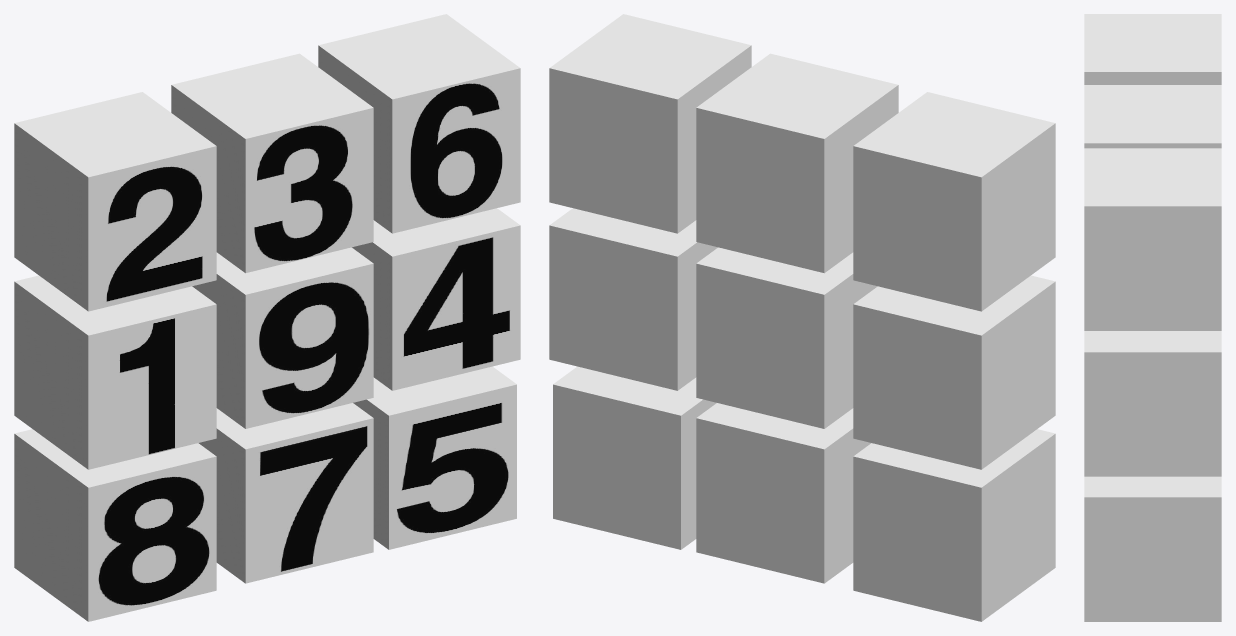
File: botoes.fbx
3 renders of one model, left to right at view 1: azimuth 30°, elevation 25°; view 2: azimuth 150°, elevation 25°; view 3: azimuth 270°, elevation 25°, orthographic. The views are drawn at different scales.
Parts seen in each view (by area): view 1: botao2, botao3, botao1, botao8, botao6, botao9, botao7, botao4, botao5; view 2: botao2, botao3, botao1, botao8, botao6, botao9, botao7, botao4, botao5; view 3: botao6, botao4, botao5, botao2, botao3.
Boxes of the visible parts, bbox=[...] form: botao2: bbox=[14, 92, 216, 311]; botao3: bbox=[171, 53, 373, 273]; botao1: bbox=[14, 275, 216, 469]; botao8: bbox=[14, 429, 216, 621]; botao6: bbox=[318, 14, 520, 233]; botao9: bbox=[192, 247, 373, 428]; botao7: bbox=[198, 403, 373, 583]; botao4: bbox=[352, 208, 520, 390]; botao5: bbox=[353, 366, 516, 549]; botao2: bbox=[853, 92, 1055, 311]; botao3: bbox=[696, 53, 898, 273]; botao1: bbox=[853, 275, 1055, 469]; botao8: bbox=[853, 429, 1055, 621]; botao6: bbox=[549, 14, 751, 233]; botao9: bbox=[696, 247, 877, 428]; botao7: bbox=[696, 403, 871, 583]; botao4: bbox=[549, 208, 717, 390]; botao5: bbox=[553, 366, 716, 549]; botao6: bbox=[1084, 148, 1221, 330]; botao4: bbox=[1084, 331, 1221, 476]; botao5: bbox=[1084, 476, 1221, 621]; botao2: bbox=[1084, 14, 1221, 84]; botao3: bbox=[1084, 85, 1221, 148].
Size of the model in its own units: 197 by 196 by 58.43.
